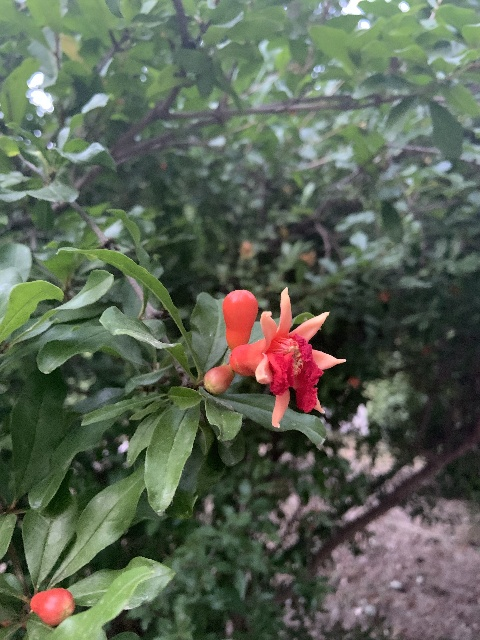bud: (222, 289, 258, 347), (30, 587, 75, 626), (203, 365, 234, 395)
flower: (229, 285, 346, 427)
